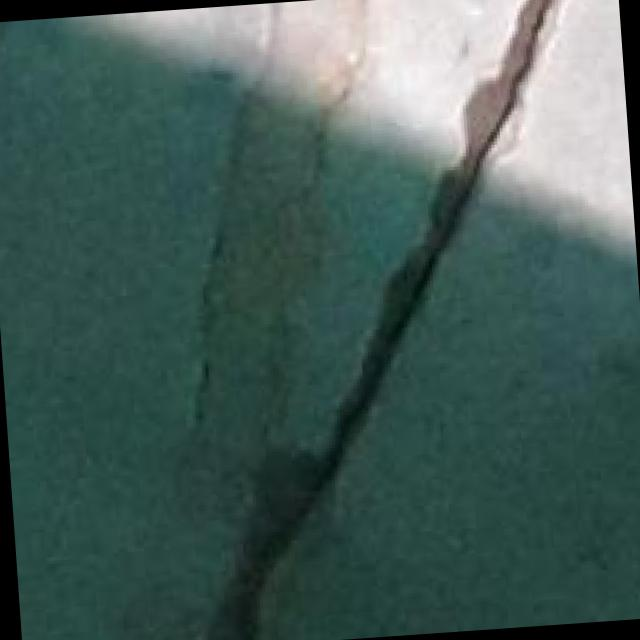crack: (188, 0, 613, 640)
